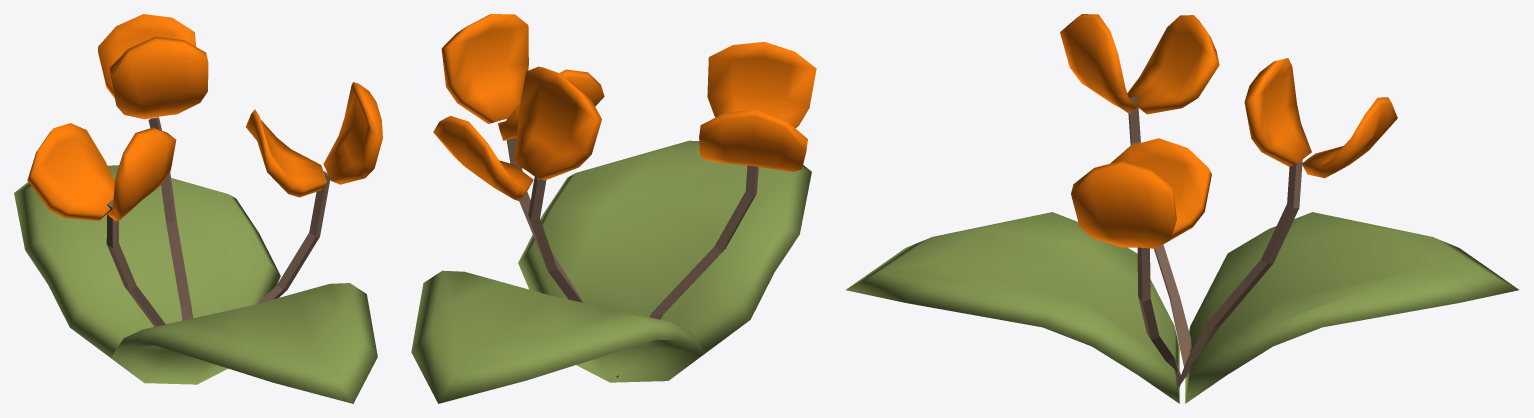
File: C_FangedGeranium_2.fbx
3 renders of one model, left to right at view 1: azimuth 30°, elevation 25°; view 2: azimuth 150°, elevation 25°; view 3: azimuth 270°, elevation 25°, orthographic. The views are drawn at different scales.
Visible parts, largest first — view 1: FangedGeranium_2; view 2: FangedGeranium_2; view 3: FangedGeranium_2.
Part boxes in pixels (x1,y1,x2,y2): FangedGeranium_2: (14,14,382,403); FangedGeranium_2: (411,14,816,403); FangedGeranium_2: (846,14,1518,403).
Bounding box in the file's own units: 97.27 × 87.22 × 159.
